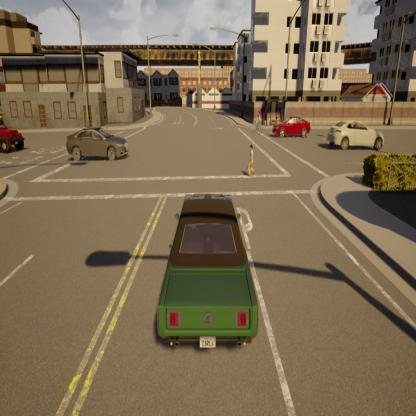Cars: (151, 183, 266, 360), (63, 123, 134, 167), (325, 116, 387, 154), (271, 113, 314, 142), (0, 116, 29, 157)
Pedestrian: (244, 141, 259, 180)
